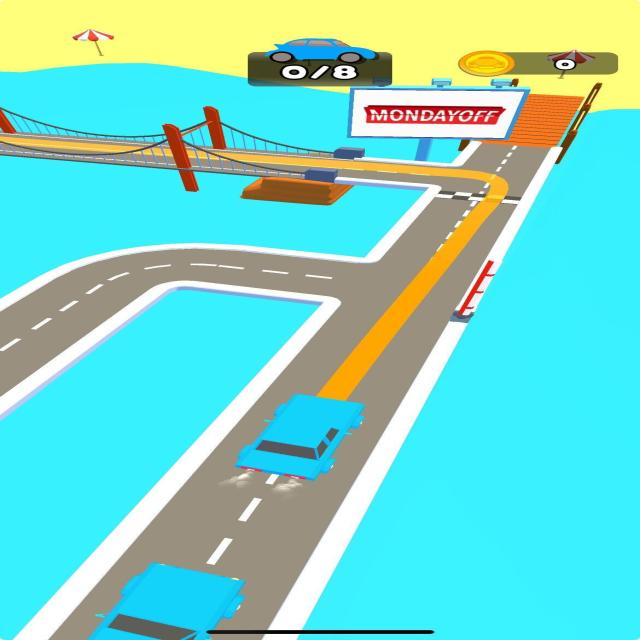billboard: (346, 87, 533, 142)
